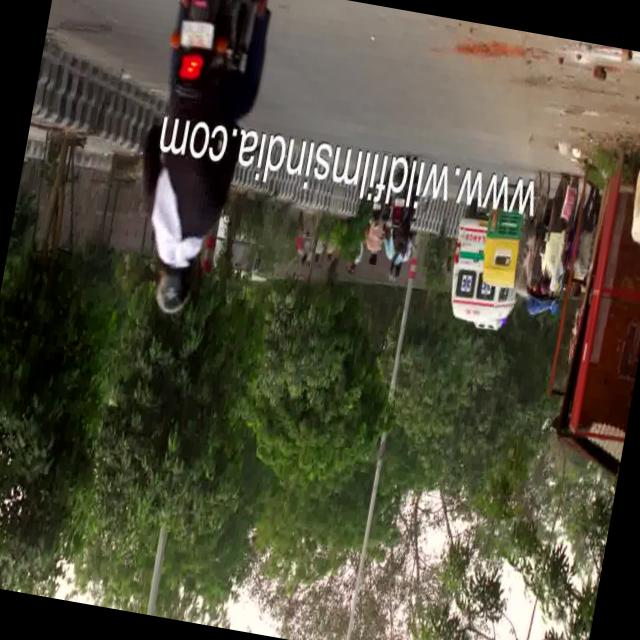ambulance: (453, 219, 516, 330)
